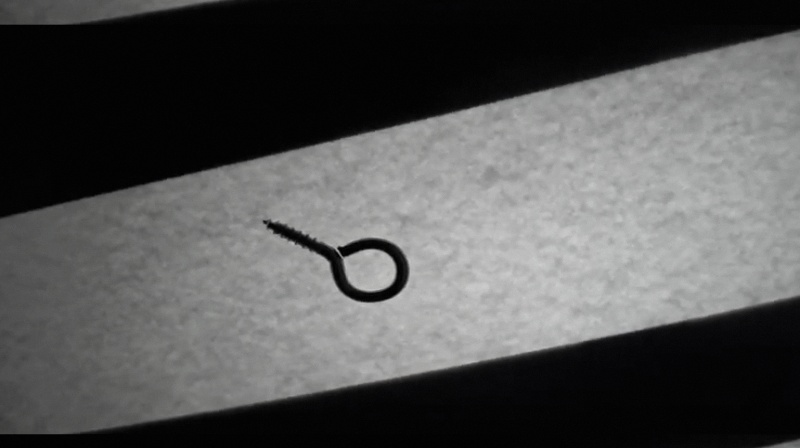O001: (258, 218, 413, 304)
